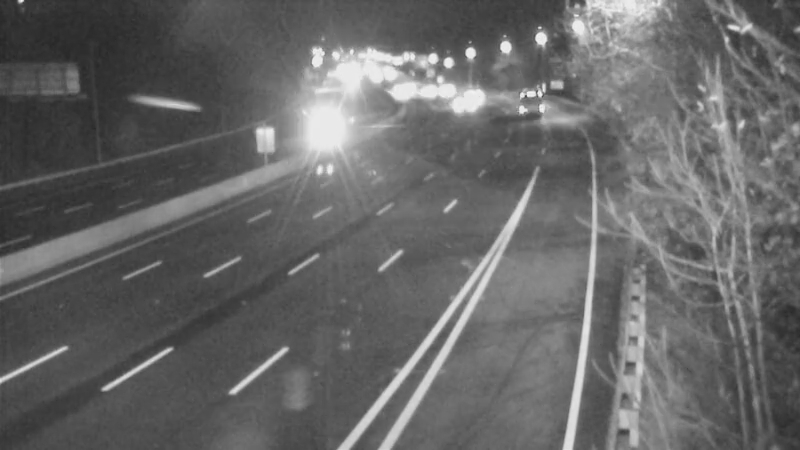vehicle: (448, 71, 498, 121), (508, 73, 558, 123), (435, 76, 485, 126), (309, 102, 359, 152)
